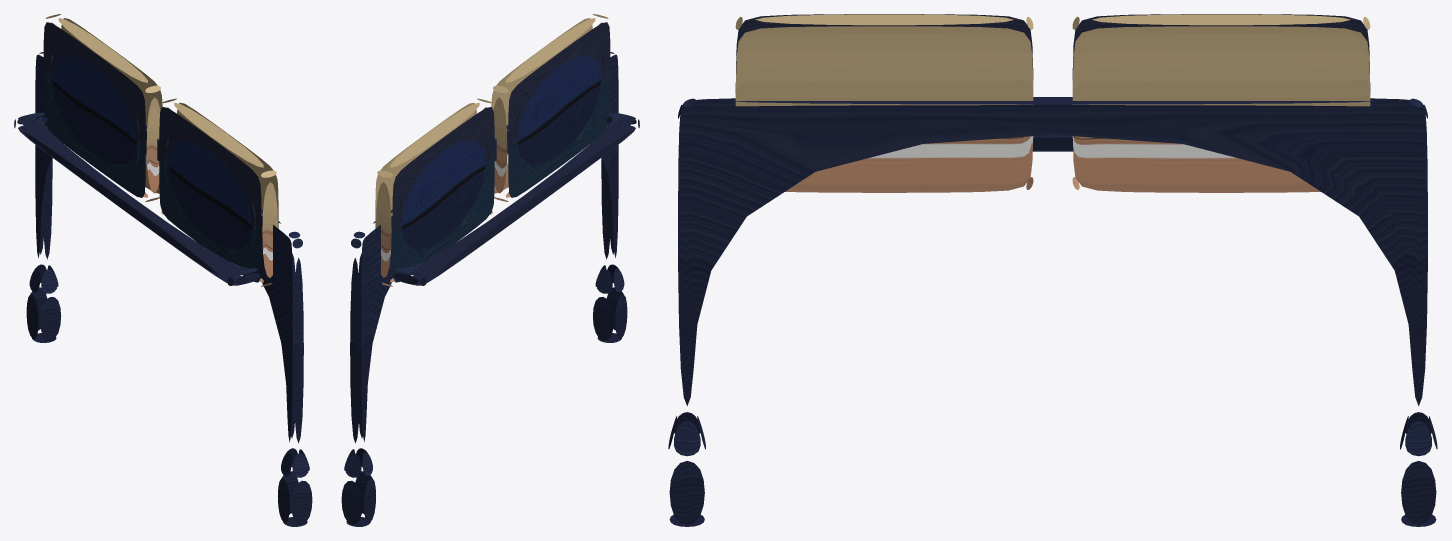
Rendered from sign_highway.glb.
The picture shows the model from 3 angles, left to right: view 1: azimuth 30°, elevation 25°; view 2: azimuth 150°, elevation 25°; view 3: azimuth 270°, elevation 25°; orthographic projection. The views are drawn at different scales.
Parts seen in each view (by area): view 1: sign_highway; view 2: sign_highway; view 3: sign_highway.
Boxes of the visible parts, x1,y1,x2,y2 form: sign_highway: [14, 14, 312, 526]; sign_highway: [341, 14, 639, 526]; sign_highway: [668, 14, 1437, 526].
Bounding box in the file's own units: 0.1324 × 0.7074 × 1.
Materials: 1 (1 with a texture image).
